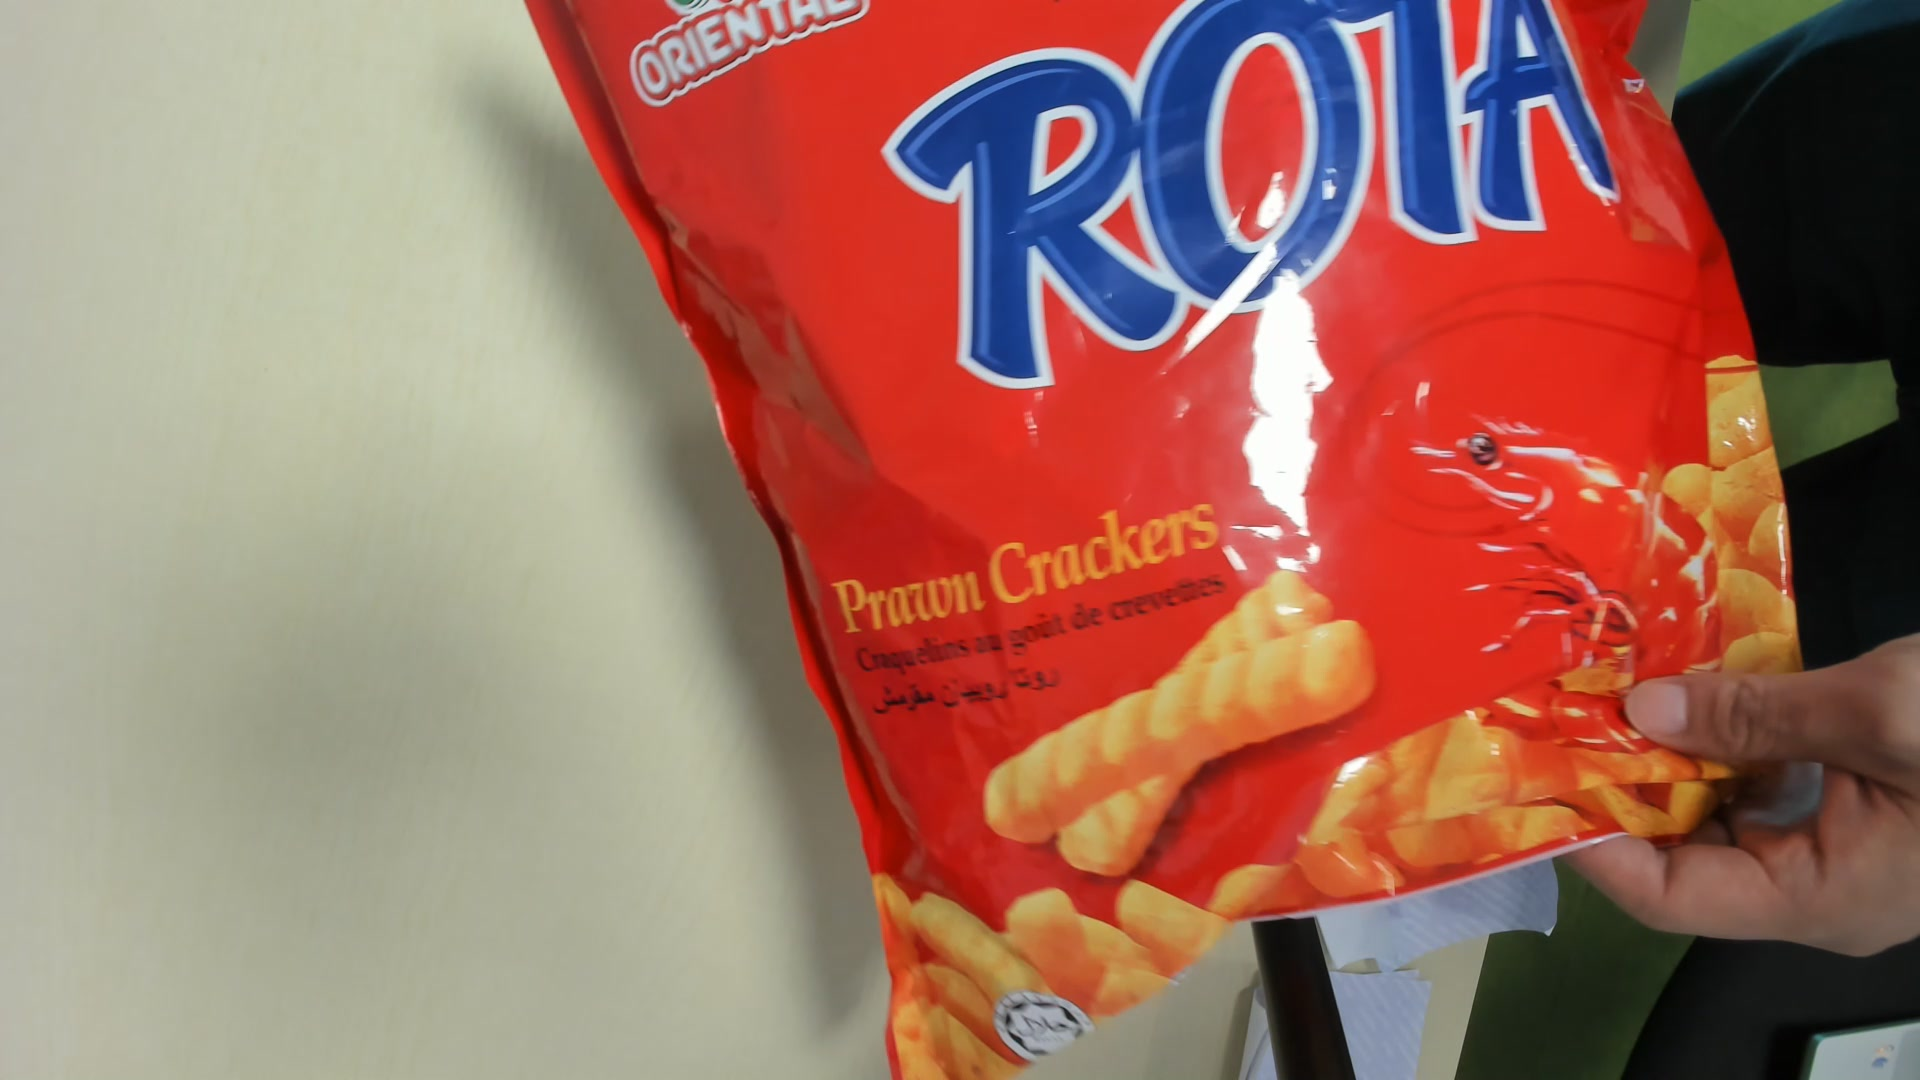PotatoChipsKeropok_100-199g_Halal_NonHealthy: (556, 1, 1832, 1080)
